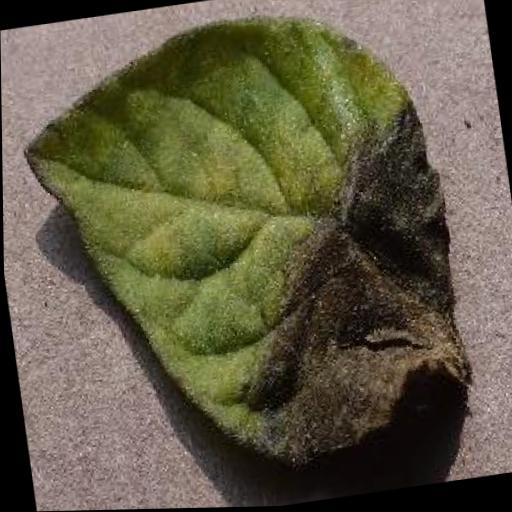Late Blight: (6, 0, 482, 498)
